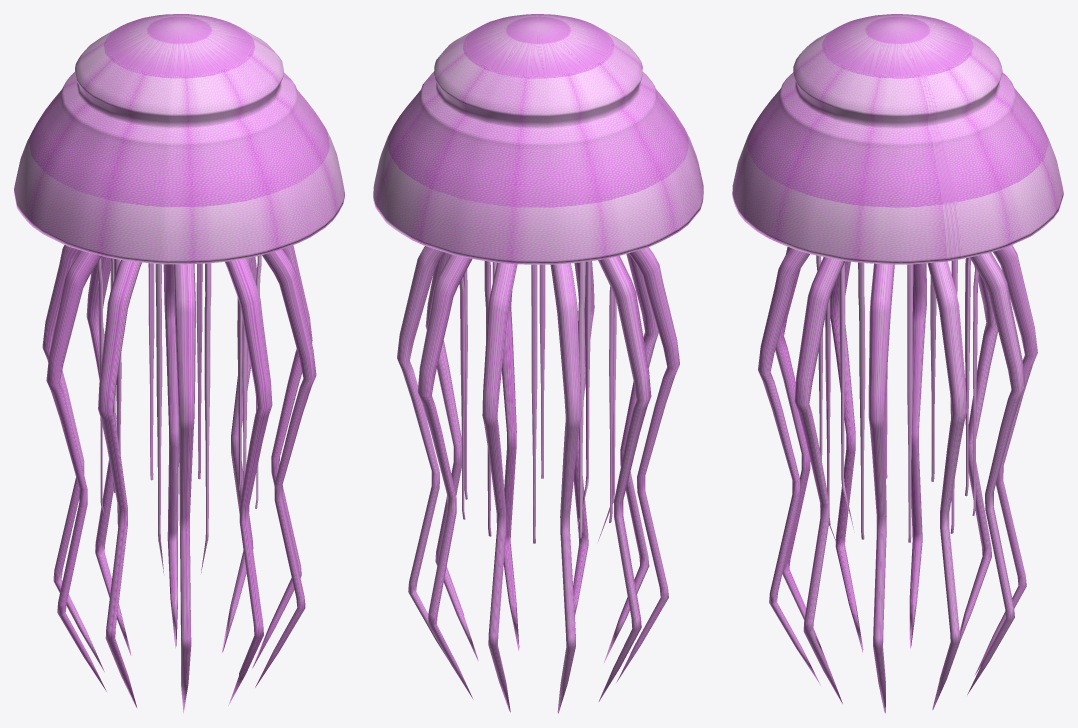
Rendered from jellyfish.fbx.
3 views of the same model, side by side, from view 1: azimuth 30°, elevation 25°; view 2: azimuth 150°, elevation 25°; view 3: azimuth 270°, elevation 25° (orthographic).
Visible parts, largest first — view 1: pSphere3; view 2: pSphere3; view 3: pSphere3.
Boxes of the visible parts, <box> form: pSphere3: <box>14,14,344,713</box>; pSphere3: <box>373,14,703,713</box>; pSphere3: <box>732,14,1063,713</box>.
Bounding box in the file's own units: 14.34 × 31.4 × 14.35.
